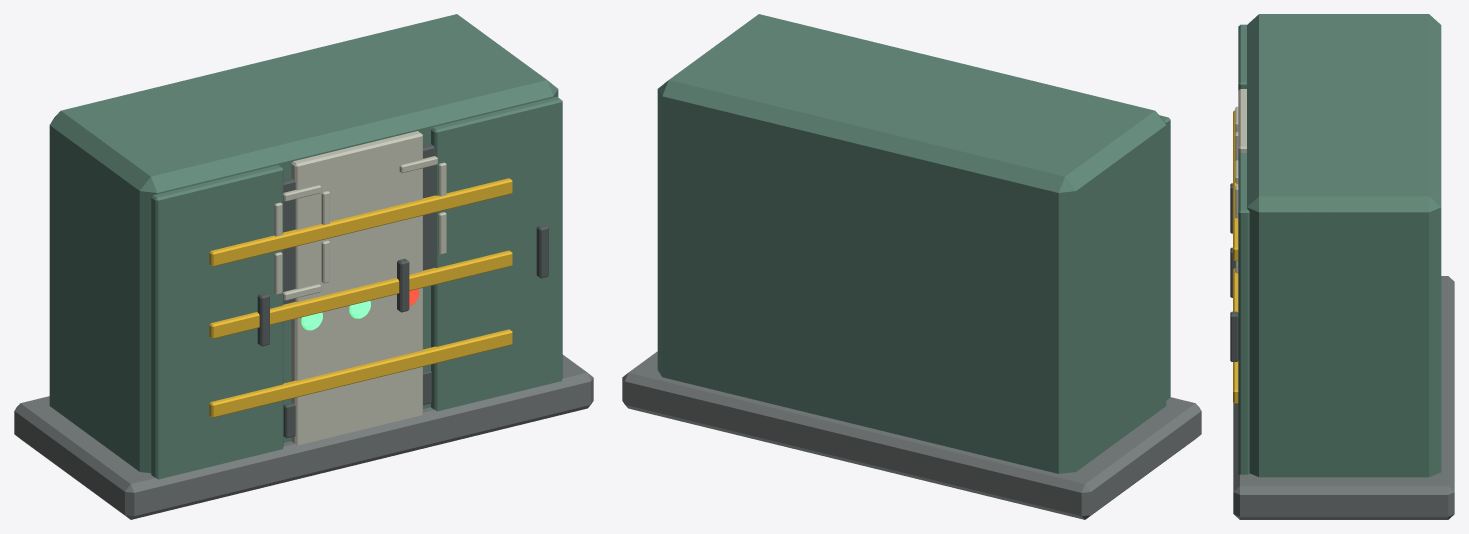
Rendered from runtime.glb.
3 views of the same model, side by side, from view 1: azimuth 30°, elevation 25°; view 2: azimuth 150°, elevation 25°; view 3: azimuth 270°, elevation 25° (orthographic). The views are drawn at different scales.
Parts seen in each view (by area): view 1: reactor-control-box-v07_nocol; view 2: reactor-control-box-v07_nocol; view 3: reactor-control-box-v07_nocol.
Boxes of the visible parts, x1,y1,x2,y2 form: reactor-control-box-v07_nocol: (14,14,593,519); reactor-control-box-v07_nocol: (622,14,1201,519); reactor-control-box-v07_nocol: (1230,14,1454,519).
Size of the model in its own units: 2.73 by 1.83 by 1.2.
